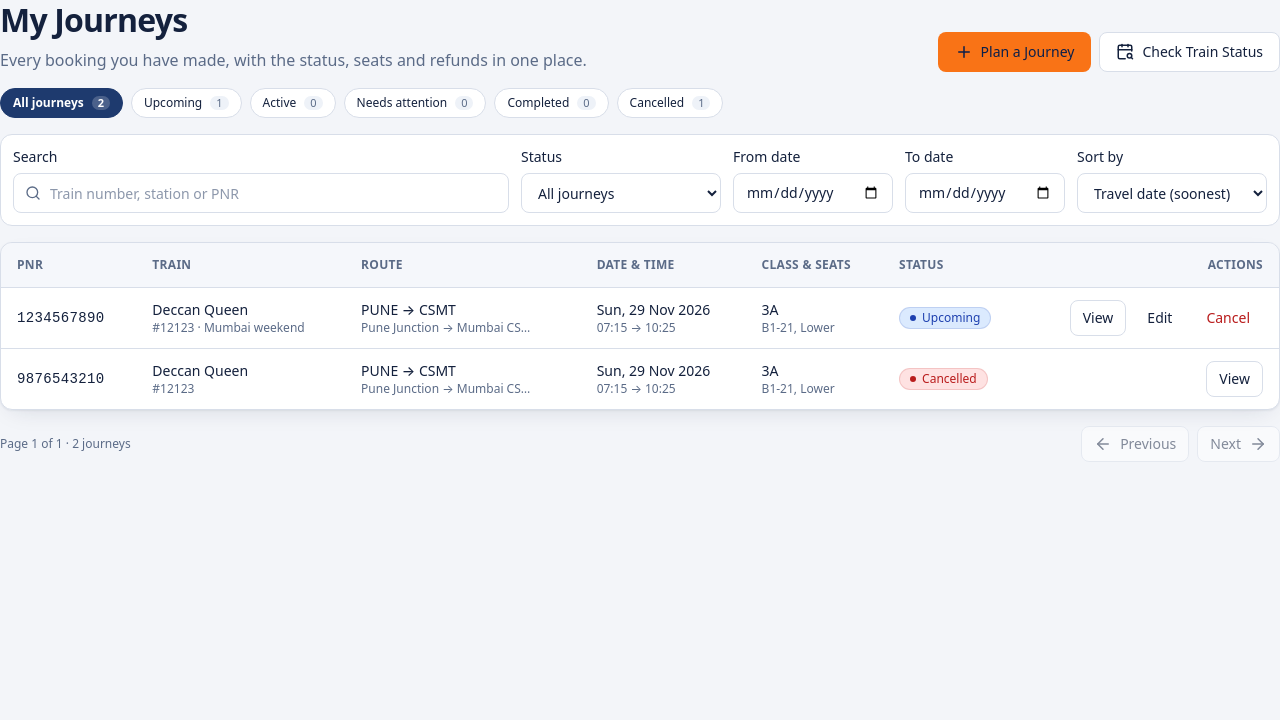
it: My Journeys › shows the estimated refund in the cancel dialog and cancels the booking
Click the button "Cancel" at {"x": 1228, "y": 318}, box [1193, 300, 1263, 336]
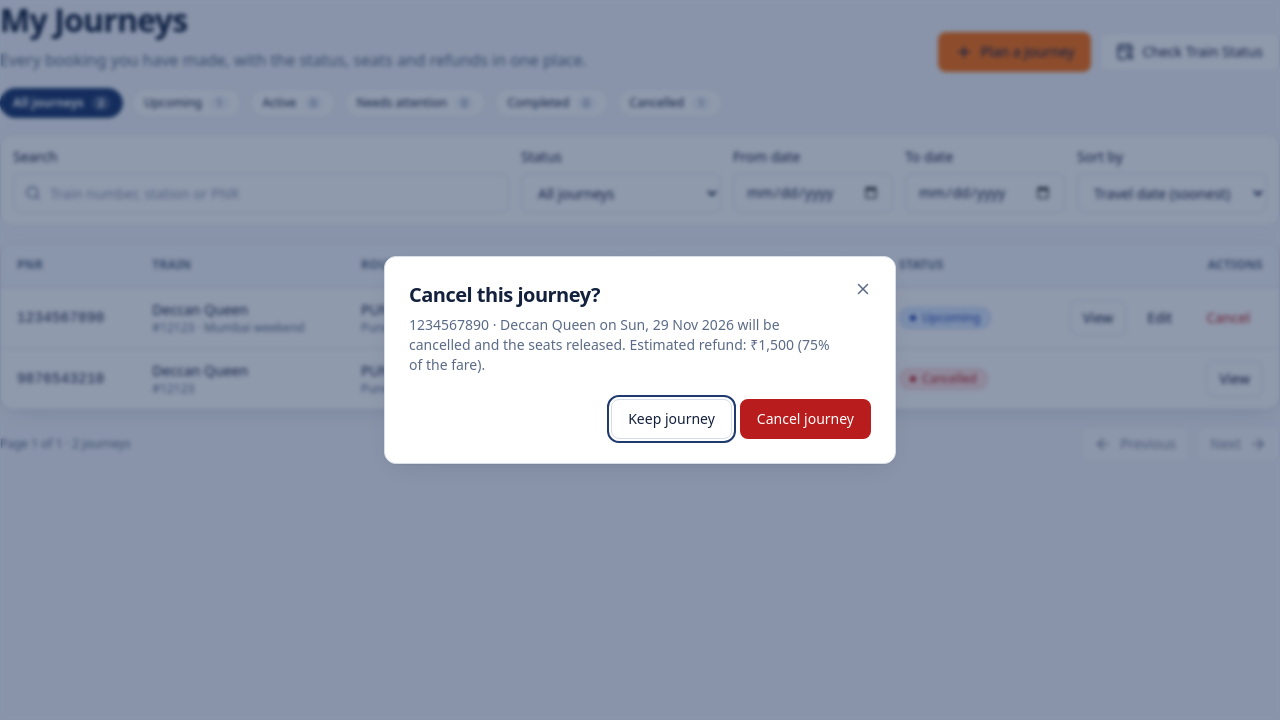
expect the dialog "Cancel this journey?" is shown: met, box [384, 256, 896, 464]
expect the text "Estimated refund: ₹1,500 (75% of the fare)." is shown: met, box [409, 315, 830, 374]
Click the button "Cancel journey" at {"x": 805, "y": 419}, box [740, 399, 871, 439]
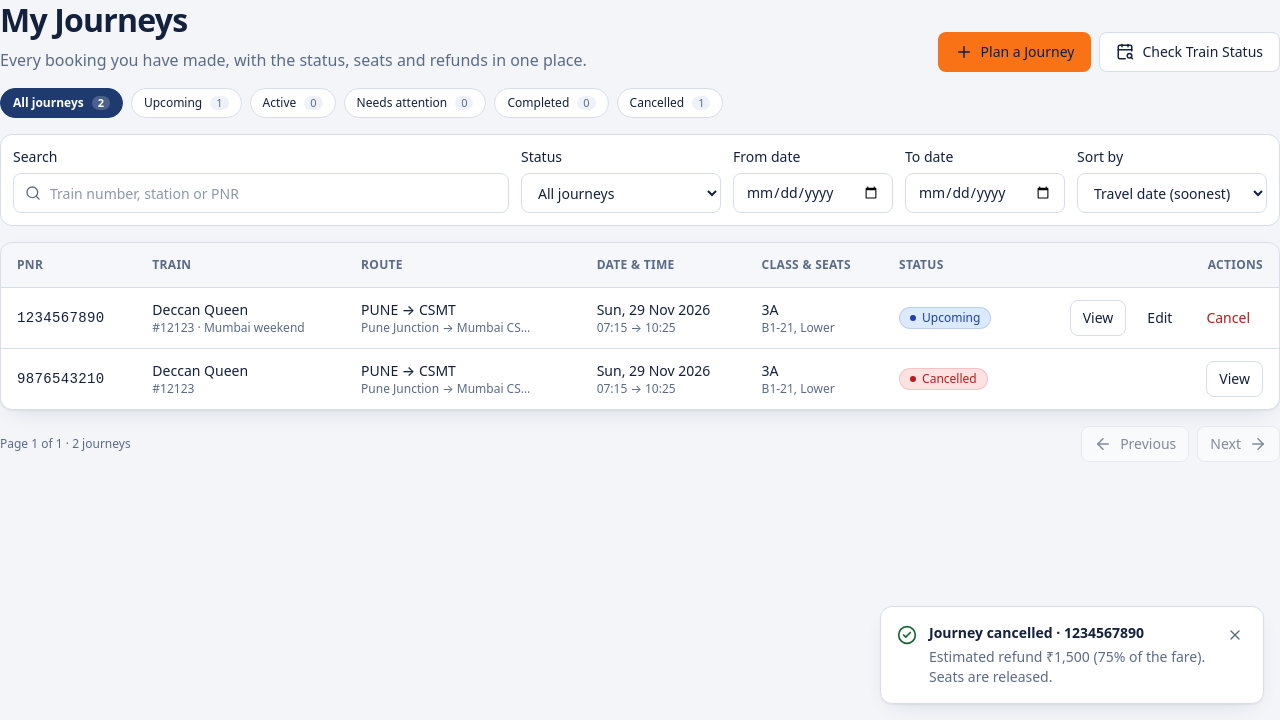
expect the text "Journey cancelled · 1234567890" is shown: met, box [929, 623, 1144, 642]
